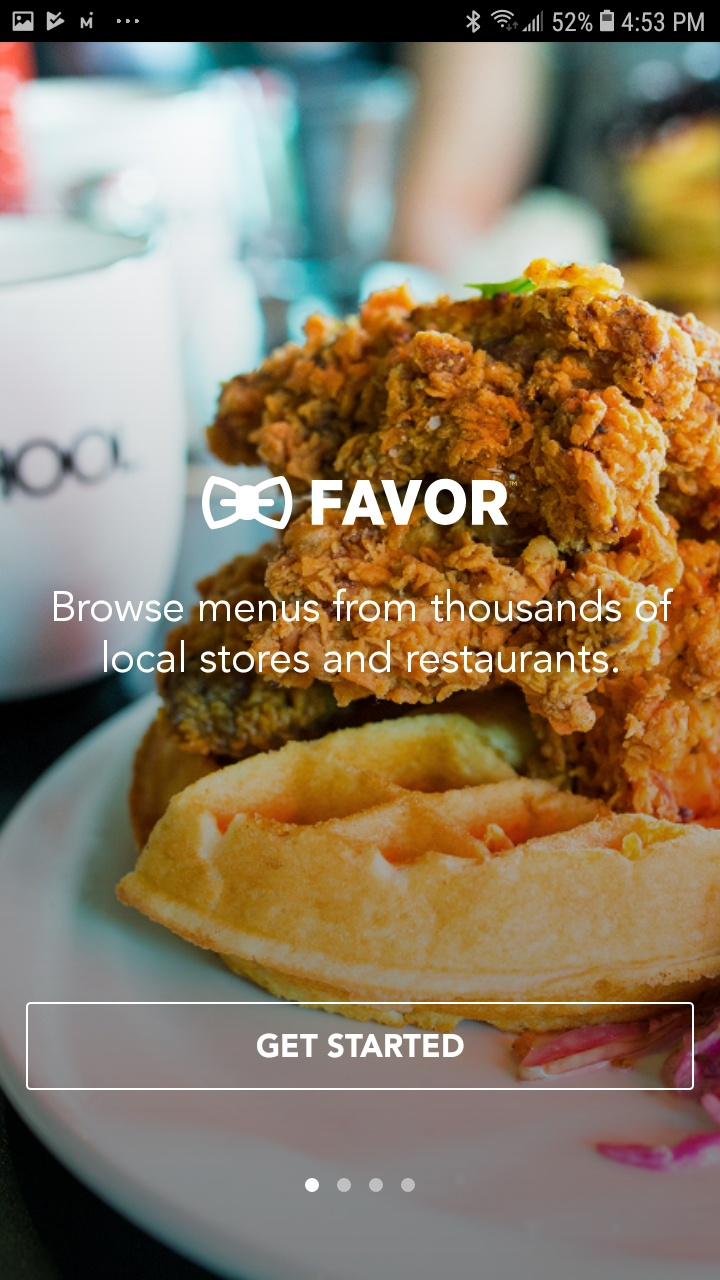BackgroundImage: (1, 43, 720, 1280)
Image: (202, 475, 294, 530)
PageIndicator: (305, 1176, 417, 1193)
Text: (54, 587, 674, 674), (311, 479, 509, 526)
TextButton: (26, 1002, 694, 1091)
UpperTaskBar: (1, 1, 720, 43)
